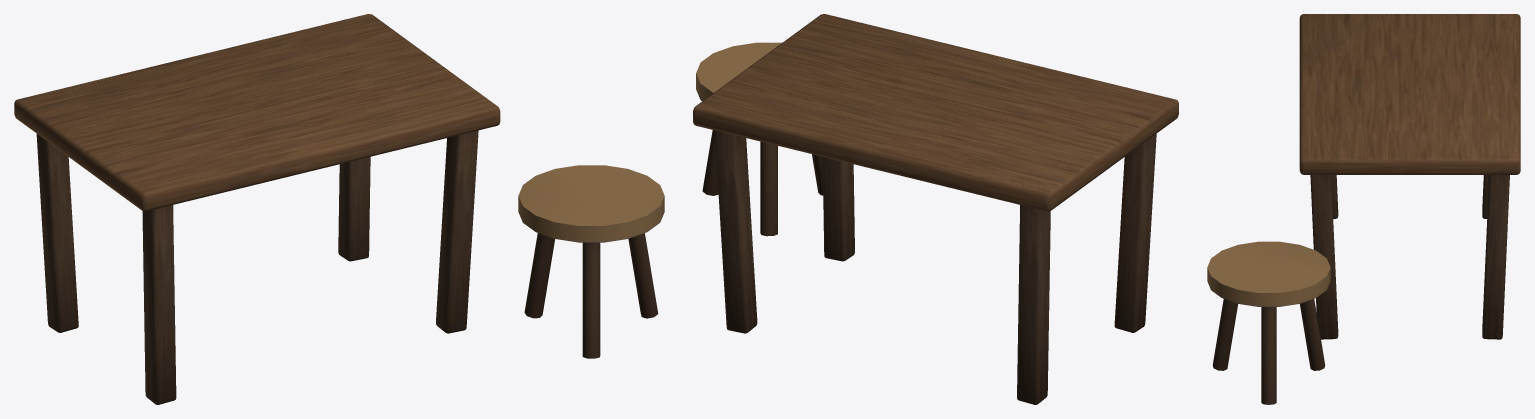
The model's file is home_table.glb.
3 renders of one model, left to right at view 1: azimuth 30°, elevation 25°; view 2: azimuth 150°, elevation 25°; view 3: azimuth 270°, elevation 25°, orthographic. The views are drawn at different scales.
Parts seen in each view (by area): view 1: home_table; view 2: home_table; view 3: home_table.
Boxes of the visible parts, bbox=[...] form: home_table: bbox=[14, 14, 664, 404]; home_table: bbox=[693, 14, 1178, 404]; home_table: bbox=[1207, 14, 1520, 404].
Bounding box in the file's own units: 1.88 × 0.8199 × 1.22.
Materials: 1 (1 with a texture image).
